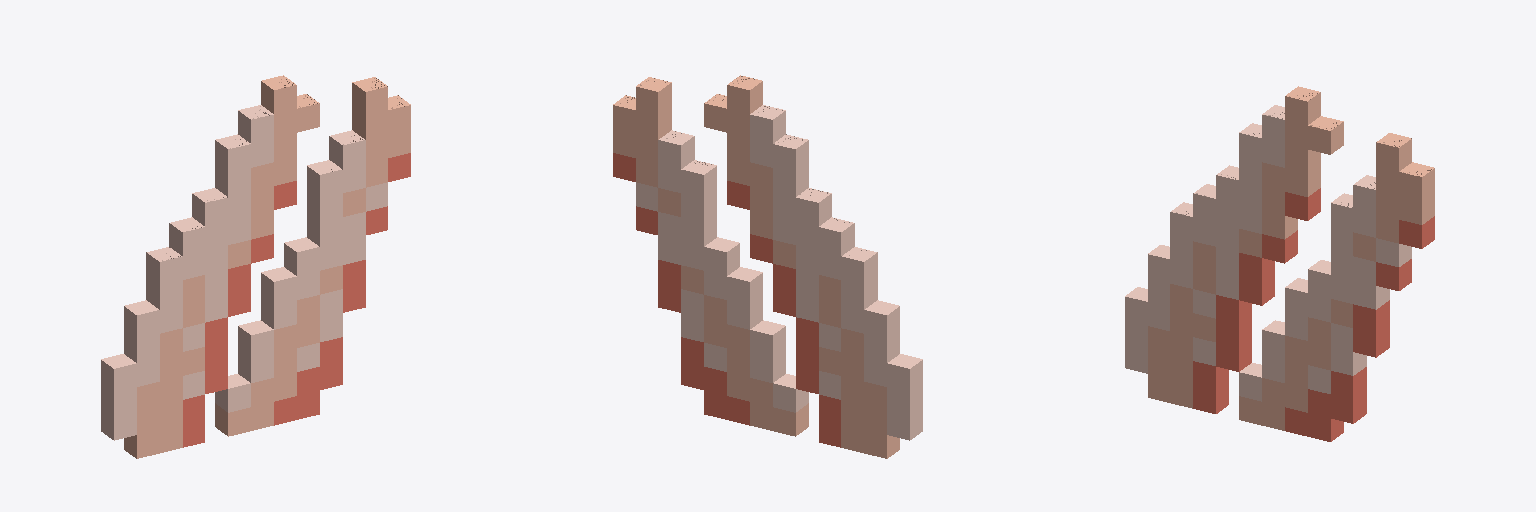
3 views of the same model, side by side, from view 1: azimuth 30°, elevation 25°; view 2: azimuth 150°, elevation 25°; view 3: azimuth 330°, elevation 25° (orthographic).
Bounding box in the file's own units: 0.8125 × 0.875 × 0.0625.
Materials: 1 (1 with a texture image).